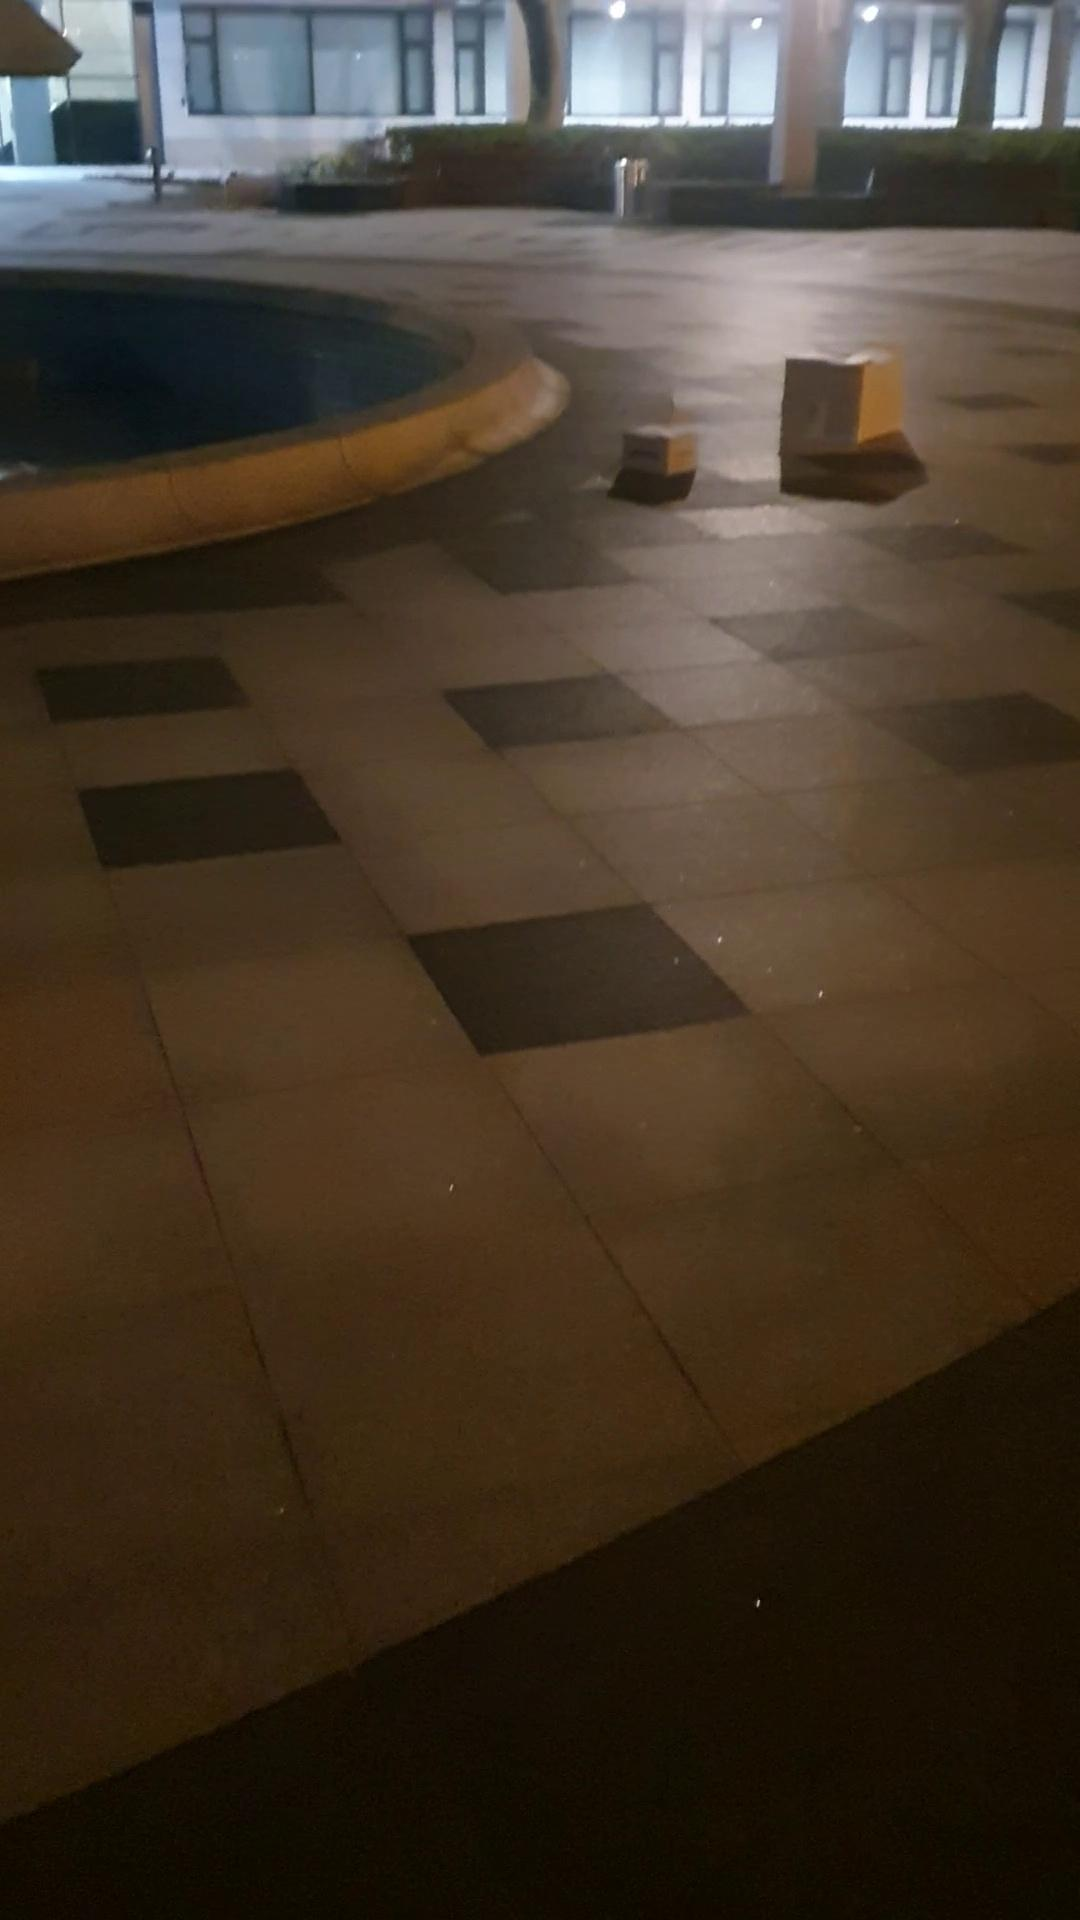Box: (783, 343, 905, 473), (611, 400, 702, 491)
